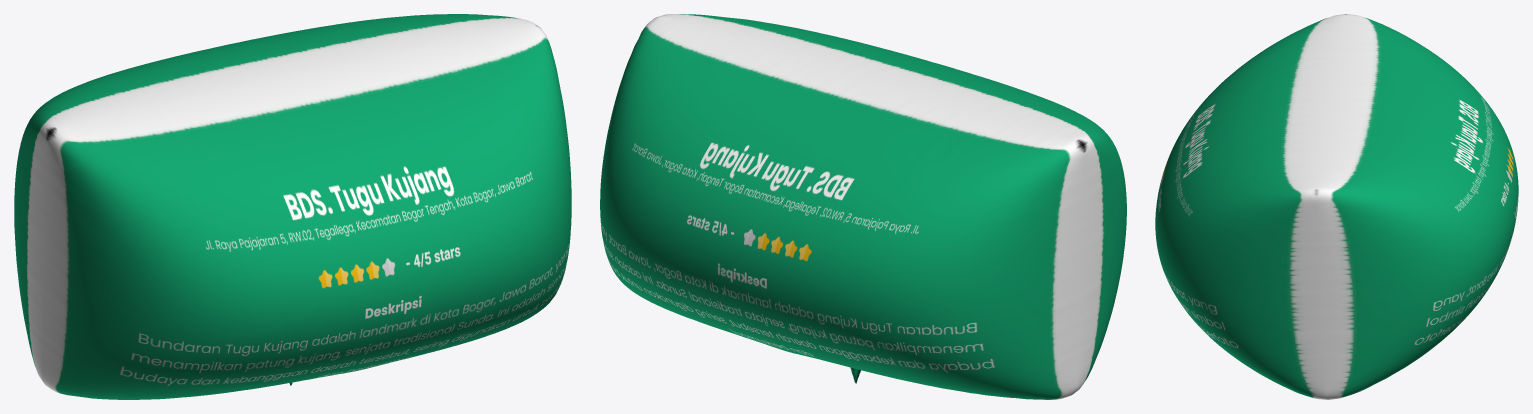
The model's file is bds-tugu-kujang.glb.
3 renders of one model, left to right at view 1: azimuth 30°, elevation 25°; view 2: azimuth 150°, elevation 25°; view 3: azimuth 270°, elevation 25°, orthographic. The views are drawn at different scales.
Parts seen in each view (by area): view 1: Mesh_0; view 2: Mesh_0; view 3: Mesh_0.
Boxes of the visible parts, x1,y1,x2,y2 form: Mesh_0: [14, 14, 571, 399]; Mesh_0: [600, 14, 1126, 399]; Mesh_0: [1155, 14, 1518, 399].
Bounding box in the file's own units: 0.4474 × 0.2844 × 0.3714.
Materials: 1 (1 with a texture image).
